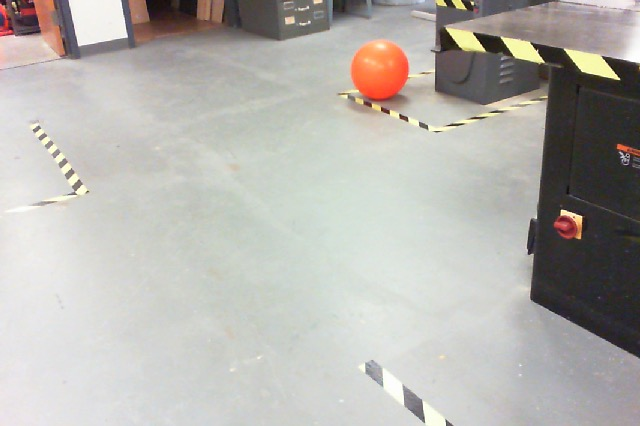Ball: (350, 40, 408, 99)
